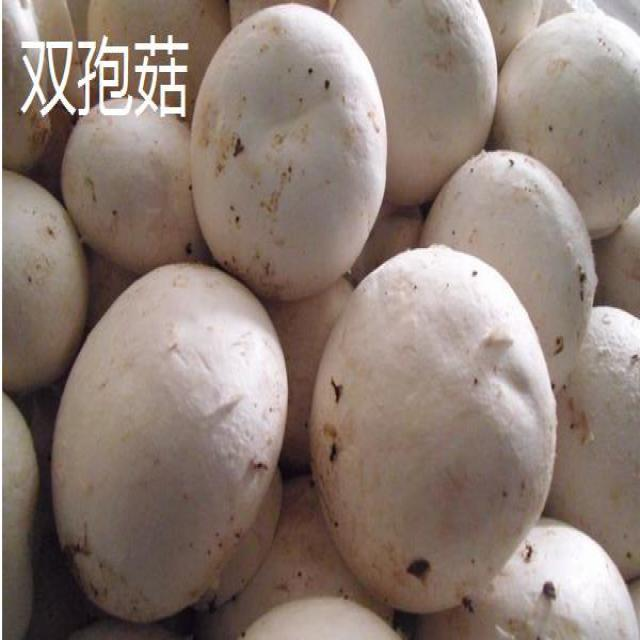Agaricus bisporus: (325, 252, 553, 610), (52, 265, 282, 604), (195, 8, 384, 295), (415, 150, 603, 401), (504, 13, 640, 237)
